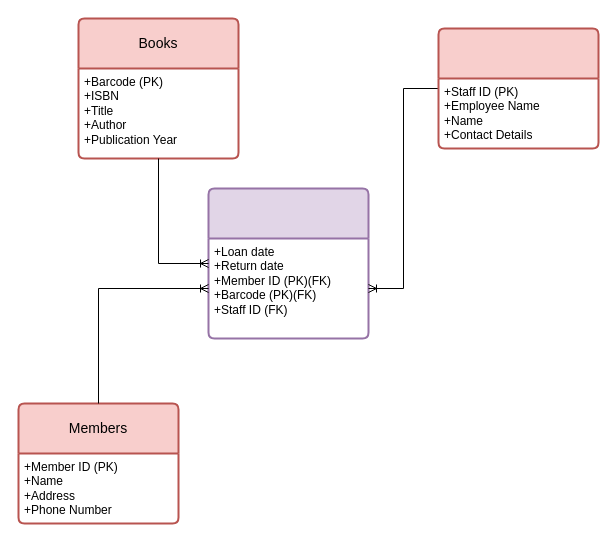
This 616x541 diagram has some shape labels left out. Here are the shapes that lost their labels. From the top down, the box of each, then its label:
(437, 27, 599, 149): Librarians
(207, 187, 369, 339): Loans
